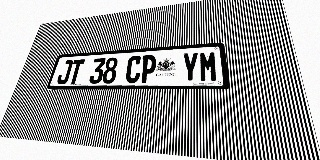3: (88, 58, 106, 84)
8: (101, 57, 119, 84)
C: (124, 56, 142, 83)
J: (56, 60, 74, 84)
M: (199, 51, 218, 82)
P: (139, 55, 157, 83)
T: (67, 59, 85, 84)
Y: (181, 52, 199, 82)
